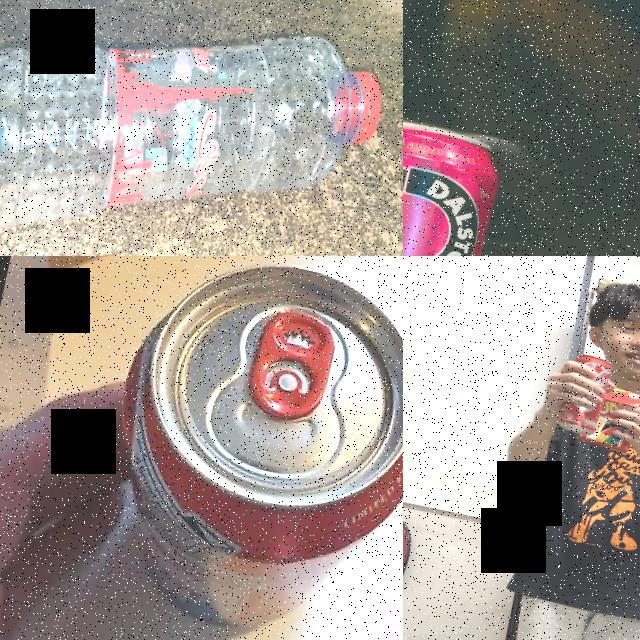bottle: (0, 0, 401, 256)
can: (78, 256, 403, 640), (403, 104, 506, 256), (553, 349, 615, 437)
